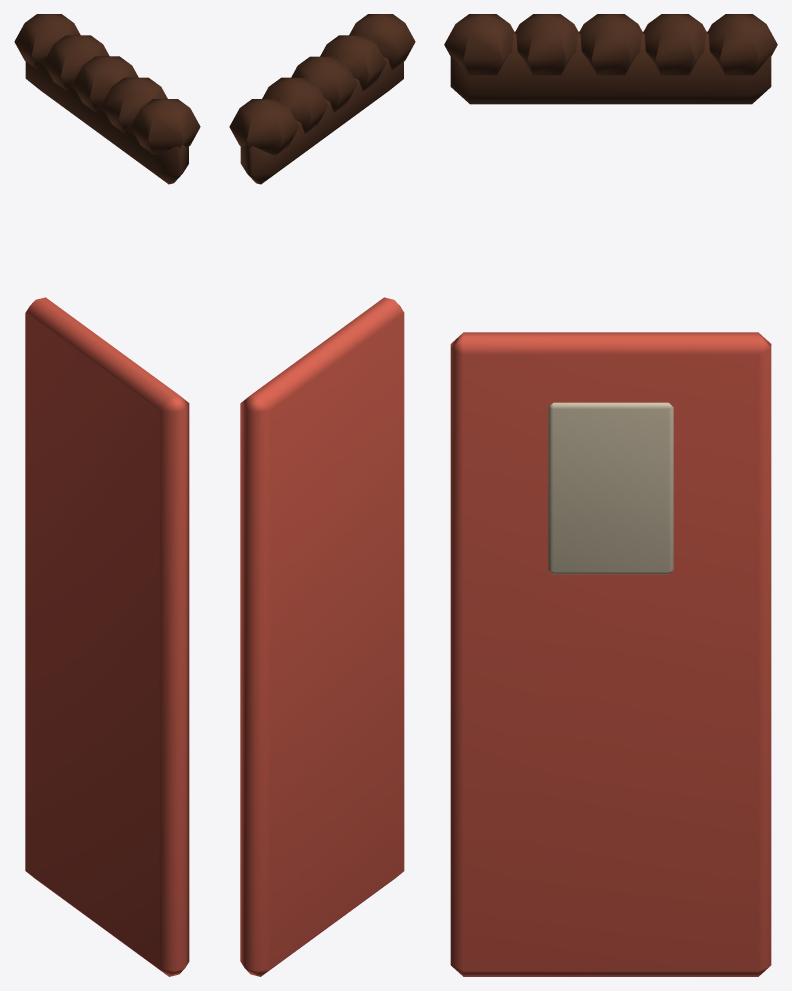
Rendered from SM_Prop_StandIn_Plain.fbx.
3 views of the same model, side by side, from view 1: azimuth 30°, elevation 25°; view 2: azimuth 150°, elevation 25°; view 3: azimuth 270°, elevation 25° (orthographic). The views are drawn at different scales.
Parts seen in each view (by area): view 1: SM_Prop_StandIn_Plain; view 2: SM_Prop_StandIn_Plain; view 3: SM_Prop_StandIn_Plain.
Part boxes in pixels (x1,y1,x2,y2): SM_Prop_StandIn_Plain: (14,14,200,976); SM_Prop_StandIn_Plain: (229,14,415,976); SM_Prop_StandIn_Plain: (444,14,777,976).
Size of the model in its own units: 10.46 by 165 by 52.07.
